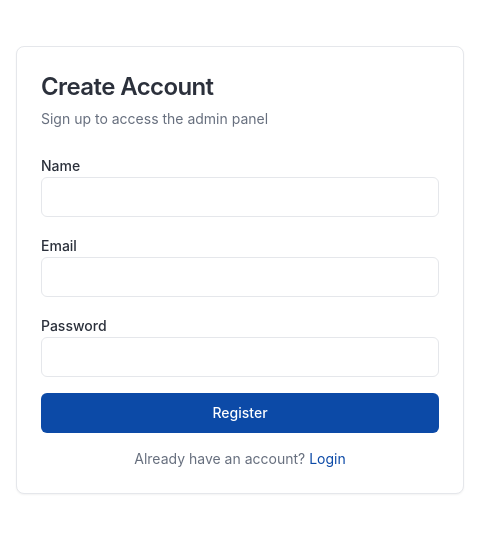
it: Register Page › should display error message on registration failure
This screenshot has width=481, height=541.
Type "Test User" into the field labelled "Name". click: point(240, 197)
box: x1=41 y1=177 x2=439 y2=217
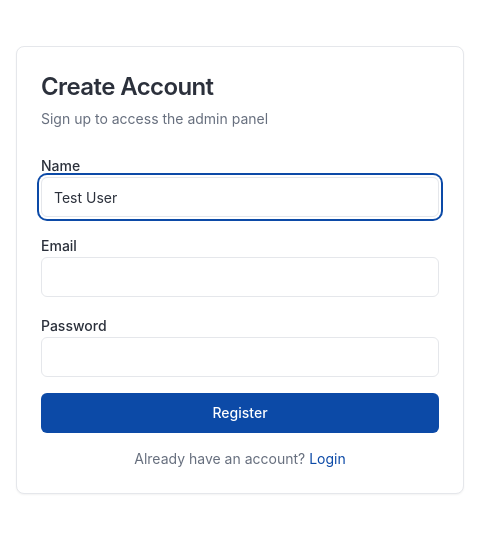
Type "test@example.com" into the field labelled "Email". click: point(240, 277)
box: x1=41 y1=257 x2=439 y2=297
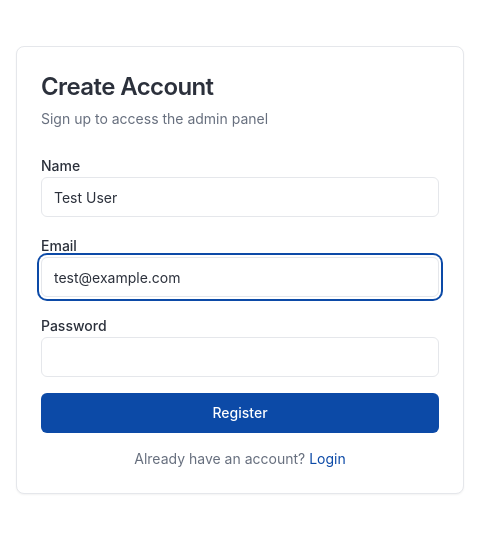
Type "password123" into the password field labelled "Password". click: point(240, 357)
box: x1=41 y1=337 x2=439 y2=377
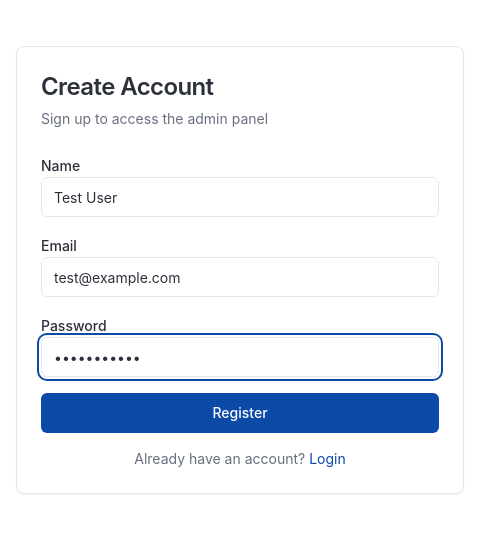
Click the button "Register". click: point(240, 413)
box: x1=41 y1=393 x2=439 y2=433
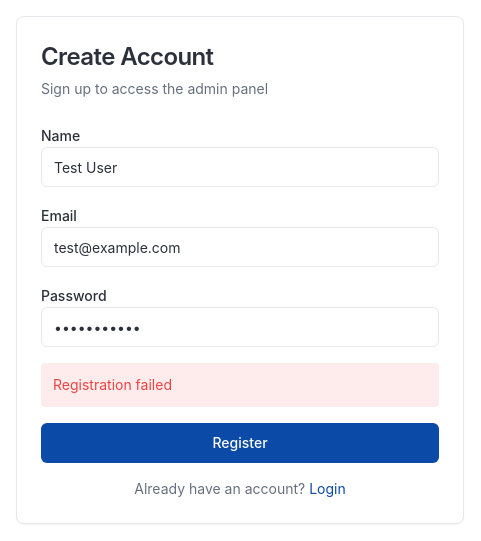
Now the text "Registration failed" is shown, box x1=41 y1=363 x2=439 y2=407
